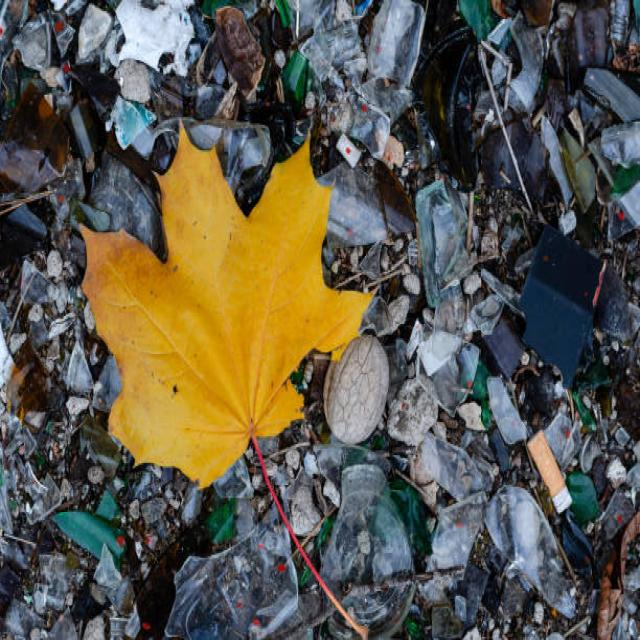glass: (403, 194, 532, 591)
